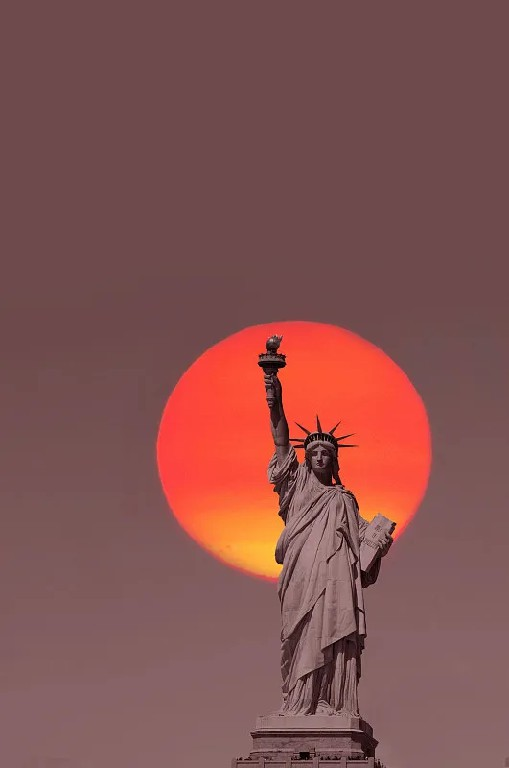SL: (231, 332, 399, 768)
